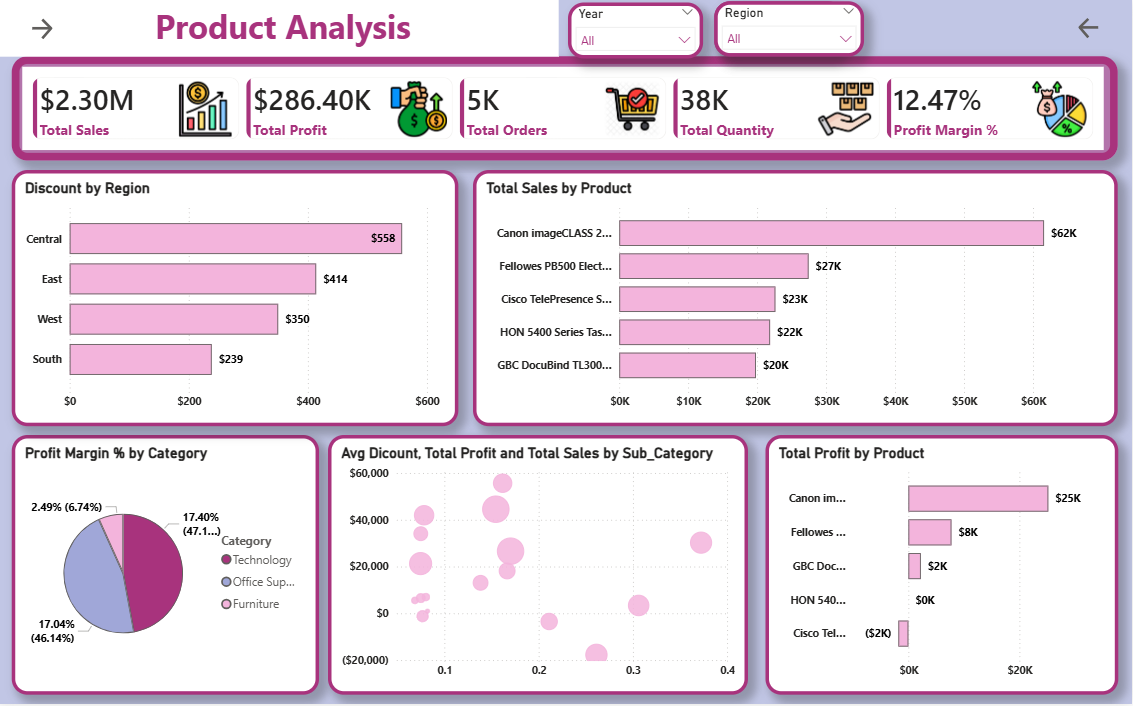

The page's visual inventory and layout, read from the dashboard file:
{"tool":"powerbi","page":{"name":" Product Analysis","canvas":[1297,805],"ordinal":2},"visuals":[{"type":"cardVisual","fields":{"Data":["DimCustomer.Total Sales","DimCustomer.Total Profit","DimCustomer.Total Orders","DimCustomer.Total Quantity","DimCustomer.Profit Margin %"]},"box":[16.1,64.6,1264,119.2],"z":0},{"type":"textbox","box":[0,0,640.6,65.1],"z":1000},{"type":"slicer","fields":{"Values":["DimDate.Year"]},"box":[651.5,2.4,154.4,63.9],"z":2000},{"type":"slicer","fields":{"Values":["DimRegion.Region"]},"box":[818.4,1.3,147.8,63.5],"z":3000},{"type":"clusteredBarChart","fields":{"Category":["DimProduct.Product_Name"],"Y":["DimCustomer.Total Sales"]},"box":[542.9,194.3,737.1,292.9],"z":4000},{"type":"clusteredBarChart","fields":{"Category":["DimProduct.Product_Name"],"Y":["DimCustomer.Total Profit"]},"box":[877.1,497.1,402.9,297.1],"z":5000},{"type":"pieChart","fields":{"Category":["DimProduct.Category"],"Y":["DimCustomer.Profit Margin %"]},"box":[15.7,497.1,351.4,297.1],"z":6000},{"type":"clusteredBarChart","fields":{"Category":["DimRegion.Region"],"Y":["Sum(superstore.Discount)"]},"box":[15.7,194.3,510,292.9],"z":7000},{"type":"scatterChart","fields":{"Category":["DimProduct.Sub_Category"],"X":["DimCustomer.Avg Dicount"],"Size":["DimCustomer.Total Sales"],"Y":["DimCustomer.Total Profit"]},"box":[377.1,497.1,480,297.1],"z":8000},{"type":"slicer","fields":{"Values":["DimRegion.Region"]},"box":[818.6,1.4,171.4,62.9],"z":8002},{"type":"actionButton","box":[0,0,100,65.7],"z":8003},{"type":"actionButton","box":[1197.1,0,100,64.3],"z":8004}]}

Visuals, with their boxes in screenshot pixels (x1, y1, x2, y2), scaled from the page's 1297x805 canvas onto the 1133x706 screenshot:
cardVisual - DimCustomer.Total Sales x DimCustomer.Total Profit: 14/57/1118/161
textbox: 0/0/560/57
slicer - DimDate.Year: 569/2/704/58
slicer - DimRegion.Region: 715/1/844/57
clusteredBarChart - DimProduct.Product_Name x DimCustomer.Total Sales: 474/170/1118/427
clusteredBarChart - DimProduct.Product_Name x DimCustomer.Total Profit: 766/436/1118/697
pieChart - DimProduct.Category x DimCustomer.Profit Margin %: 14/436/321/697
clusteredBarChart - DimRegion.Region x Sum(superstore.Discount): 14/170/459/427
scatterChart - DimProduct.Sub_Category x DimCustomer.Avg Dicount: 329/436/749/697
slicer - DimRegion.Region: 715/1/865/56
actionButton: 0/0/87/58
actionButton: 1046/0/1132/56
